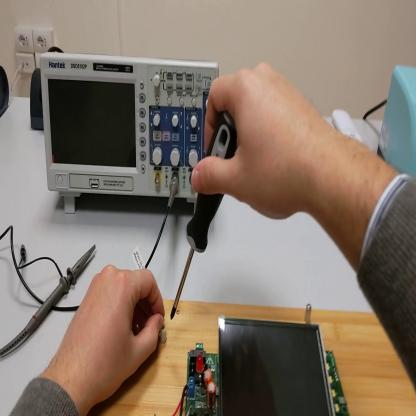hand: (191, 62, 323, 224), (58, 262, 168, 403)
low voltage board: (172, 318, 349, 413)
oscilloscope: (42, 53, 220, 214)
oscilloscope probe tip: (3, 245, 95, 357)
screwdriver-: (172, 113, 242, 320)
socket: (30, 67, 42, 131), (1, 68, 11, 118)
welder station: (378, 68, 415, 189)
working area: (87, 301, 416, 416)
